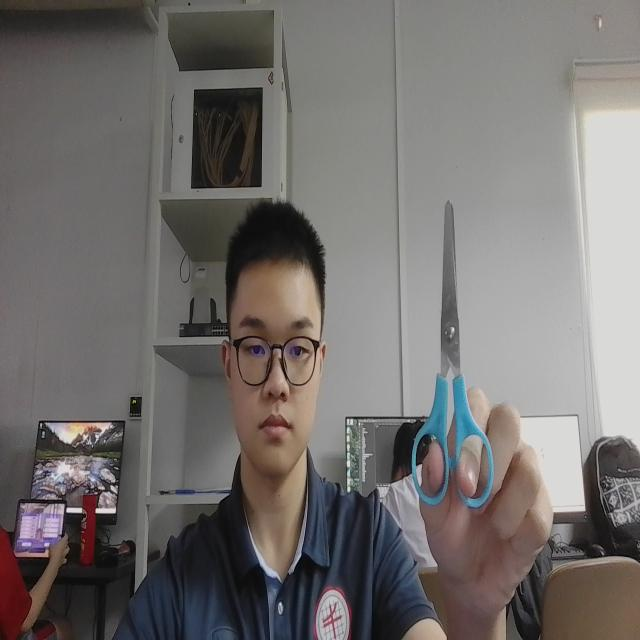scissors: (407, 190, 497, 517)
